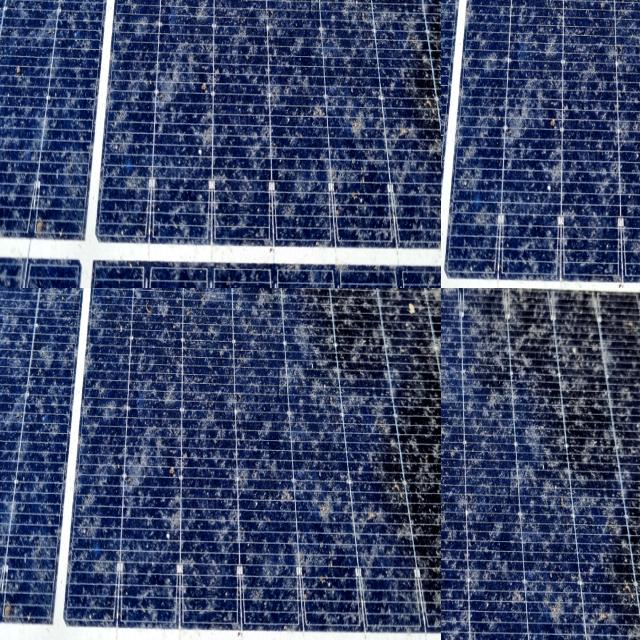dust: (441, 288, 640, 640), (441, 288, 543, 640), (441, 288, 640, 341), (441, 19, 559, 85), (441, 116, 512, 212), (583, 188, 640, 288), (441, 243, 527, 288)
hotspot: (13, 288, 135, 511), (180, 288, 232, 352)
